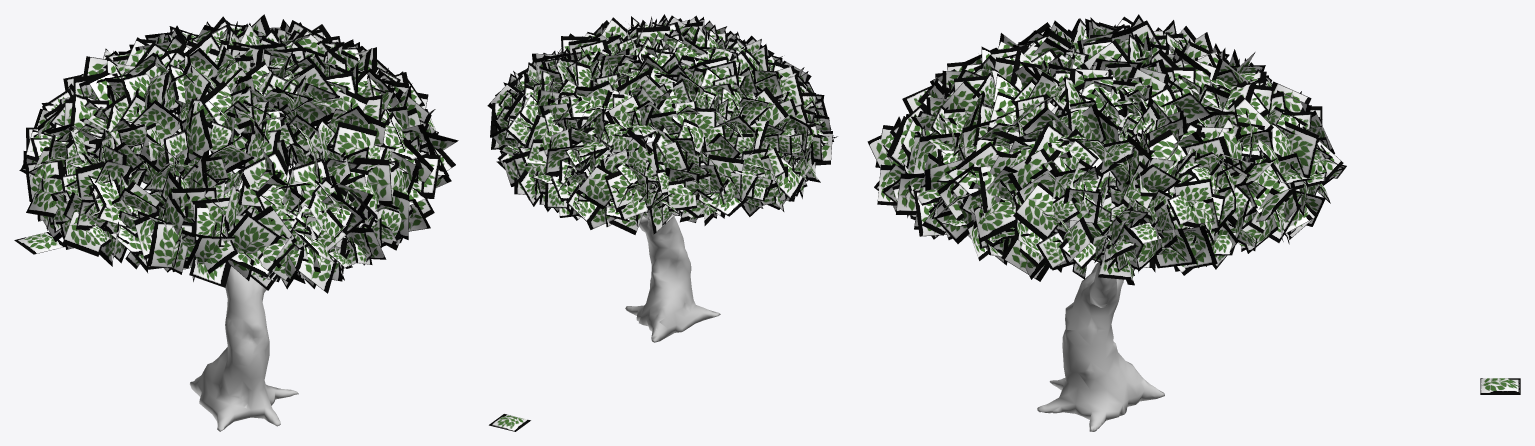
File: WorldTreeLP_ForestProp_001.fbx
3 renders of one model, left to right at view 1: azimuth 30°, elevation 25°; view 2: azimuth 150°, elevation 25°; view 3: azimuth 270°, elevation 25°, orthographic. The views are drawn at different scales.
Visible parts, largest first — view 1: Mtree_lp, Leaf.628, Leaf.597, Leaf.432, Leaf.687, Leaf.442, Leaf.544, Leaf.516, Leaf.768, Leaf.530, Leaf.636, Leaf.731 (+51 smaller); view 2: Mtree_lp, Leaf.995, Leaf.956, Leaf.902, Leaf.738, Leaf.072, Leaf.888, Leaf.979, Leaf.084, Leaf.829, Leaf.056, Leaf.863 (+33 smaller); view 3: Mtree_lp, Leaf.312, Leaf.339, Leaf.056, Leaf.216, Leaf.365, Leaf.129, Leaf.414, Leaf.230, Leaf.446, Leaf.196, Leaf.476 (+17 smaller).
Boxes of the visible parts, box(x1,y1,x2,y2) form: Mtree_lp: box(189, 147, 315, 431); Leaf.628: box(147, 221, 194, 268); Leaf.597: box(229, 213, 281, 253); Leaf.432: box(330, 121, 377, 158); Leaf.687: box(129, 100, 182, 145); Leaf.442: box(353, 157, 392, 204); Leaf.544: box(238, 149, 288, 212); Leaf.516: box(296, 247, 336, 293); Leaf.768: box(26, 174, 63, 217); Leaf.530: box(288, 158, 329, 209); Leaf.636: box(179, 109, 212, 161); Leaf.731: box(62, 211, 105, 256); Mtree_lp: box(586, 161, 720, 342); Leaf.995: box(575, 164, 612, 209); Leaf.956: box(604, 165, 640, 211); Leaf.902: box(666, 180, 697, 211); Leaf.738: box(750, 87, 788, 126); Leaf.072: box(525, 115, 567, 155); Leaf.888: box(656, 141, 688, 170); Leaf.979: box(605, 95, 641, 125); Leaf.084: box(512, 147, 546, 176); Leaf.829: box(707, 154, 743, 181); Leaf.056: box(545, 145, 584, 175); Leaf.863: box(688, 108, 715, 136); Mtree_lp: box(1037, 262, 1164, 431); Leaf.312: box(1013, 182, 1058, 239); Leaf.339: box(973, 190, 1021, 241); Leaf.056: box(1285, 121, 1318, 178); Leaf.216: box(1153, 228, 1197, 268); Leaf.365: box(1007, 148, 1058, 191); Leaf.129: box(1181, 136, 1233, 172); Leaf.414: box(987, 91, 1019, 140); Leaf.230: box(1148, 129, 1190, 178); Leaf.446: box(896, 173, 925, 215); Leaf.196: box(1125, 164, 1180, 199); Leaf.476: box(942, 80, 993, 125).
Size of the model in its own units: 2236 by 1997 by 3255.
